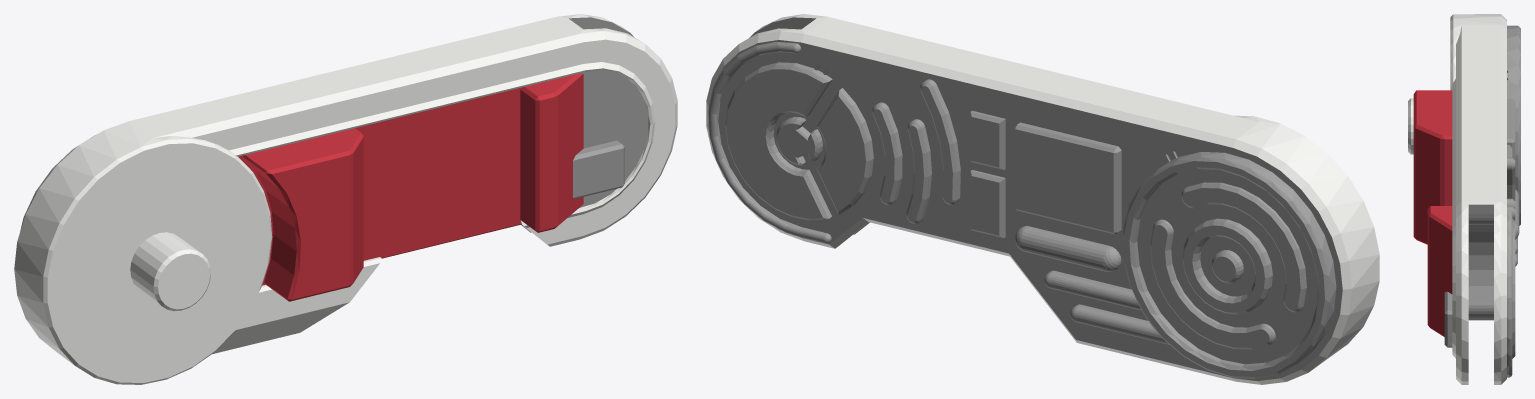
File: mid_leg_r_m.dae
3 renders of one model, left to right at view 1: azimuth 30°, elevation 25°; view 2: azimuth 150°, elevation 25°; view 3: azimuth 270°, elevation 25°, orthographic. The views are drawn at different scales.
Visible parts, largest first — view 1: SketchUp (×4); view 2: SketchUp (×20); view 3: SketchUp (×11).
Boxes of the visible parts, <box> form: SketchUp (×4): <box>14,14,677,384</box>; SketchUp (×20): <box>706,14,1379,384</box>; SketchUp (×11): <box>1408,14,1520,384</box>.
Size of the model in its own units: 8.75 by 1.57 by 3.14.
